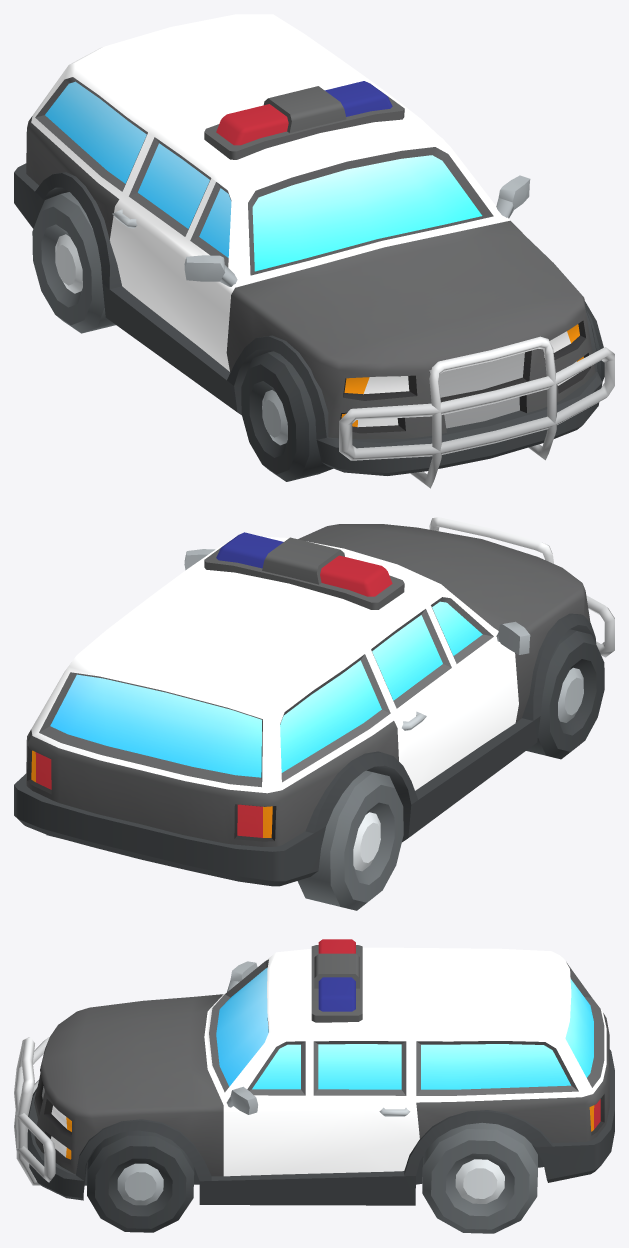
Rendered from Car_44.glb.
3 views of the same model, one above another, from view 1: azimuth 30°, elevation 25°; view 2: azimuth 150°, elevation 25°; view 3: azimuth 270°, elevation 25° (orthographic). The views are drawn at different scales.
Visible parts, largest first — view 1: Car_44, Wheel_129, Wheel_130; view 2: Car_44, Wheel_130, Wheel_129; view 3: Car_44, Wheel_132, Wheel_131.
Boxes of the visible parts, x1,y1,x2,y2 form: Car_44: [14, 14, 614, 488]; Wheel_129: [241, 351, 333, 481]; Wheel_130: [32, 192, 115, 333]; Car_44: [14, 517, 614, 886]; Wheel_130: [297, 770, 403, 910]; Wheel_129: [526, 629, 604, 759]; Car_44: [14, 939, 614, 1205]; Wheel_132: [422, 1122, 537, 1233]; Wheel_131: [87, 1130, 194, 1232].
Bounding box in the file's own units: 2.49 × 1.75 × 4.53.
Materials: 2 (2 with a texture image).
